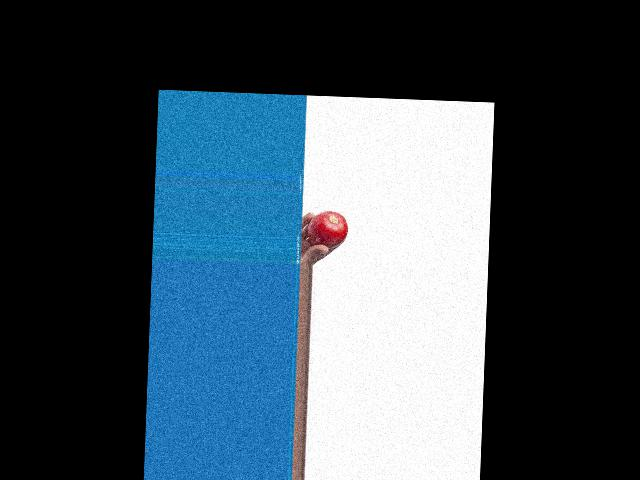tomato: (307, 210, 348, 249)
